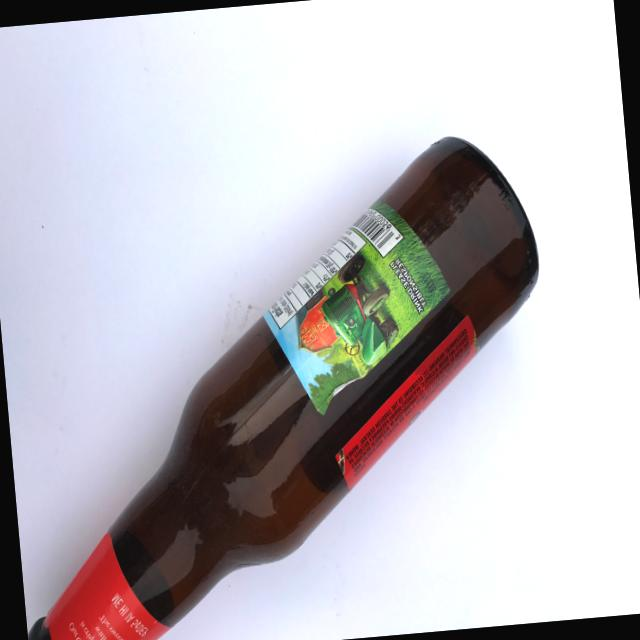Glass: (0, 109, 578, 640)
